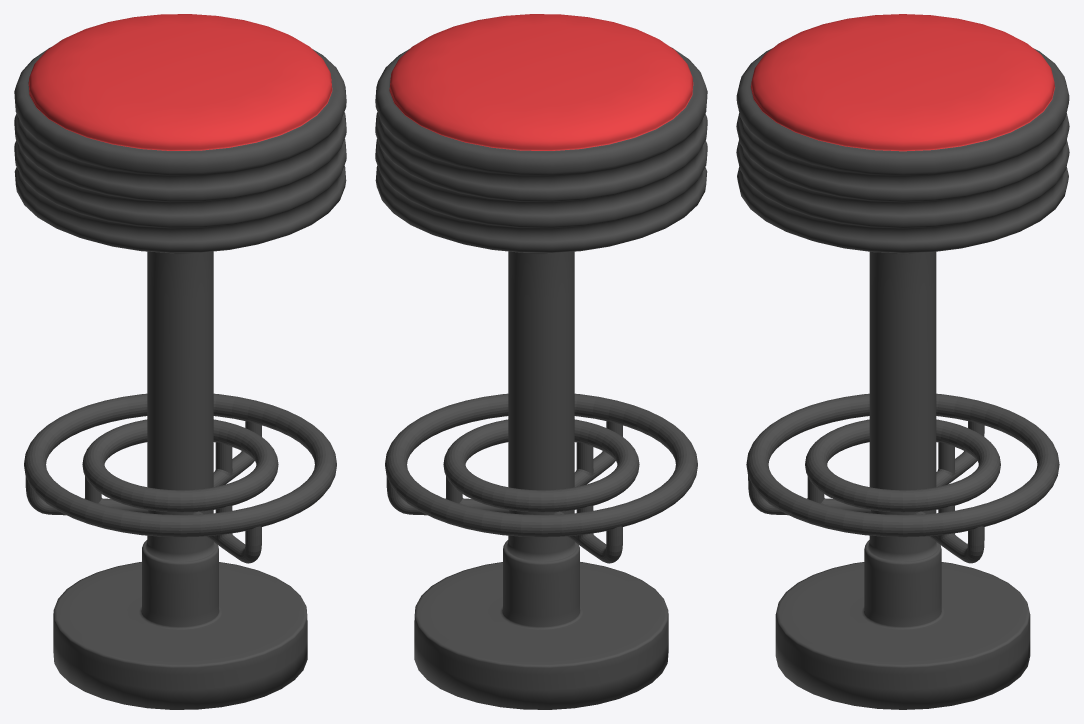
Rendered from chair_tri.fbx.
3 views of the same model, side by side, from view 1: azimuth 30°, elevation 25°; view 2: azimuth 150°, elevation 25°; view 3: azimuth 270°, elevation 25° (orthographic).
Visible parts, largest first — view 1: Cylinder; view 2: Cylinder; view 3: Cylinder.
Part boxes in pixels (x1,y1,x2,y2): Cylinder: [14, 14, 346, 709]; Cylinder: [375, 14, 707, 709]; Cylinder: [736, 14, 1069, 709].
Size of the model in its own units: 568 by 1116 by 568.
